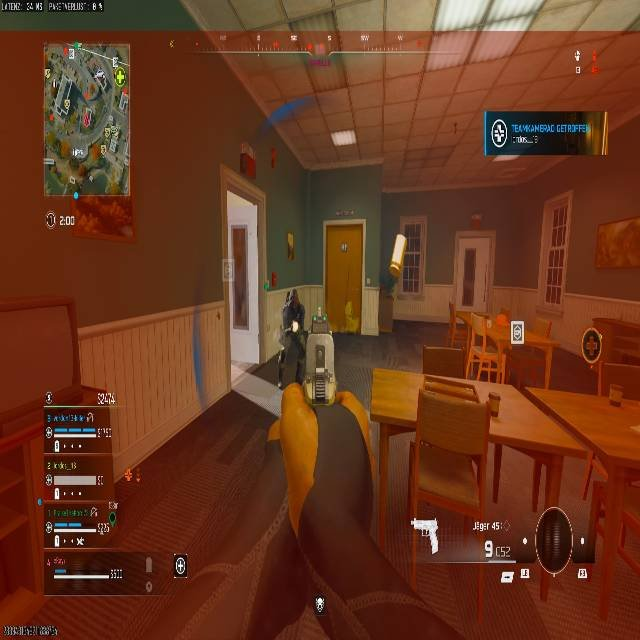head: (286, 289, 297, 305)
player: (277, 289, 306, 388), (281, 294, 308, 334)
